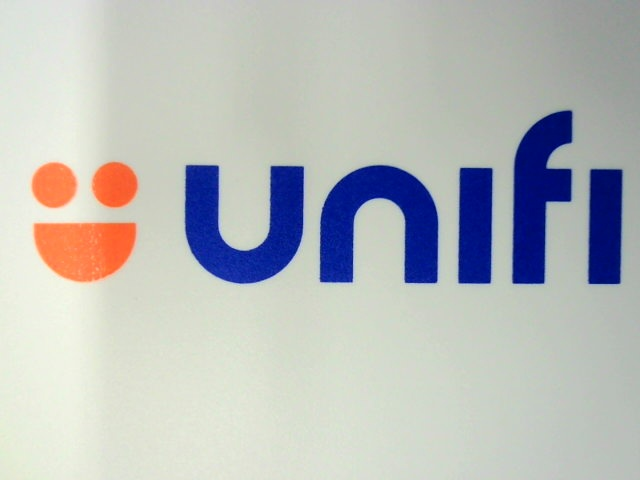BN_unifi: (15, 101, 627, 296)
